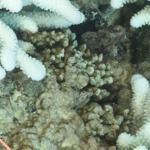alive: (3, 3, 146, 145)
